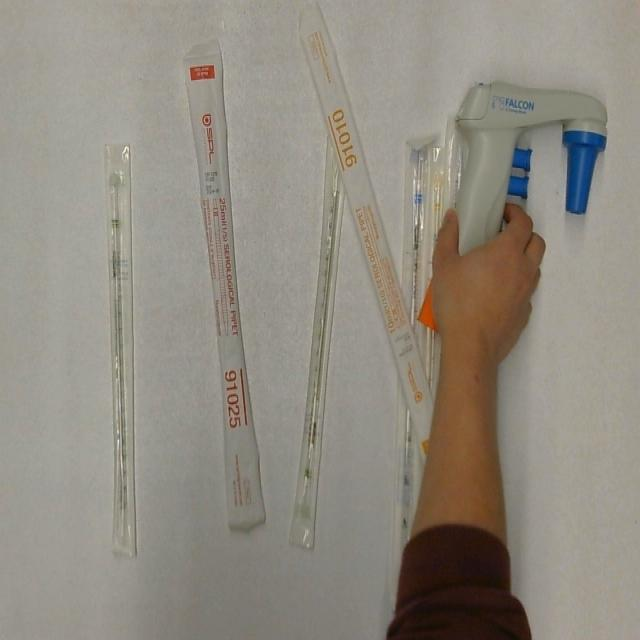Pipette Controller: (417, 79, 610, 335)
Serelogical Pipet 1 mL - Sealed: (429, 143, 450, 274)
Serelogical Pipet 10 mL - Sealed: (298, 2, 440, 469)
Serelogical Pipet 2 mL - Sealed: (287, 134, 348, 550), (100, 141, 146, 561)
Serelogical Pipet 25 mL - Sealed: (182, 39, 271, 536)
Serelogical Pipet 5 mL - Sealed: (388, 128, 439, 602)
